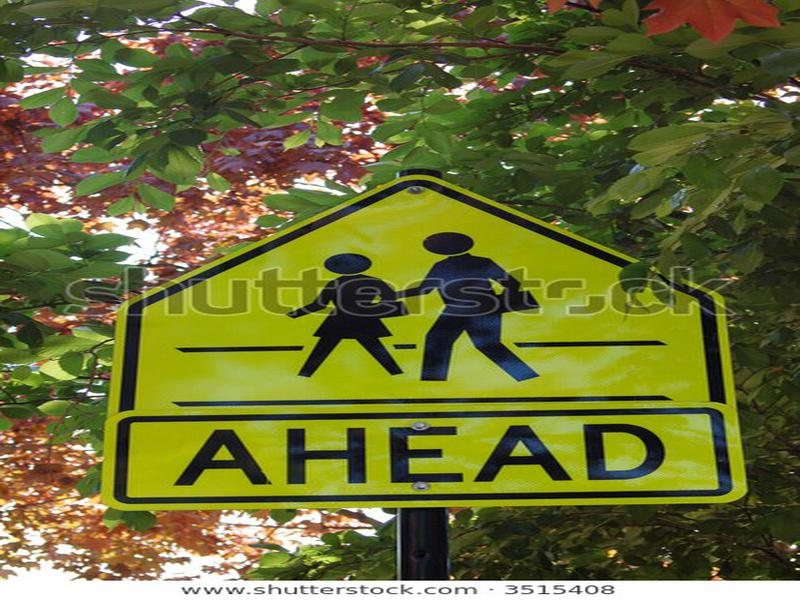slow: (107, 172, 744, 426)
